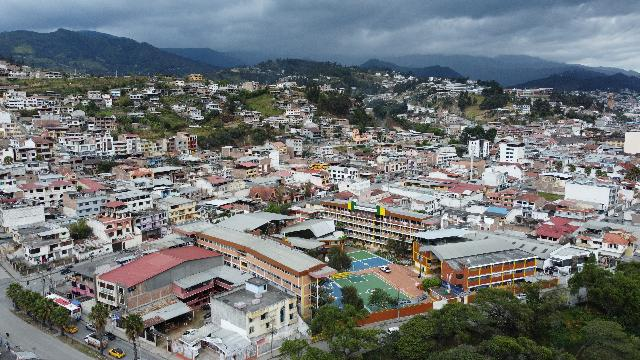Vehiculo: (84, 333, 108, 349), (109, 348, 125, 358), (62, 324, 78, 334), (182, 329, 198, 338), (60, 264, 74, 274), (200, 302, 212, 310), (515, 293, 527, 299), (204, 312, 212, 320), (380, 266, 390, 272), (86, 324, 96, 330)
